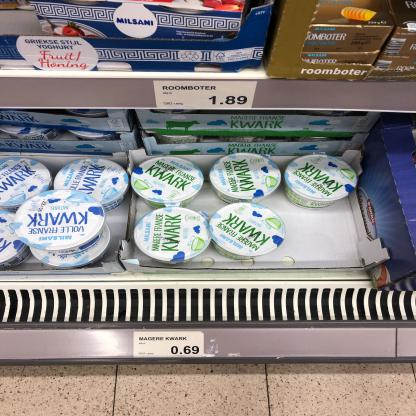prtg: (154, 82, 258, 110), (135, 332, 205, 358)
